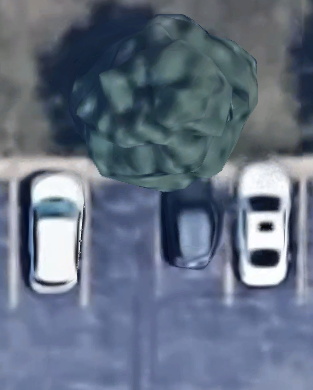Occupied: (13, 171, 85, 306), (229, 173, 302, 303), (160, 172, 230, 304)
Vacant: (85, 172, 159, 306)
